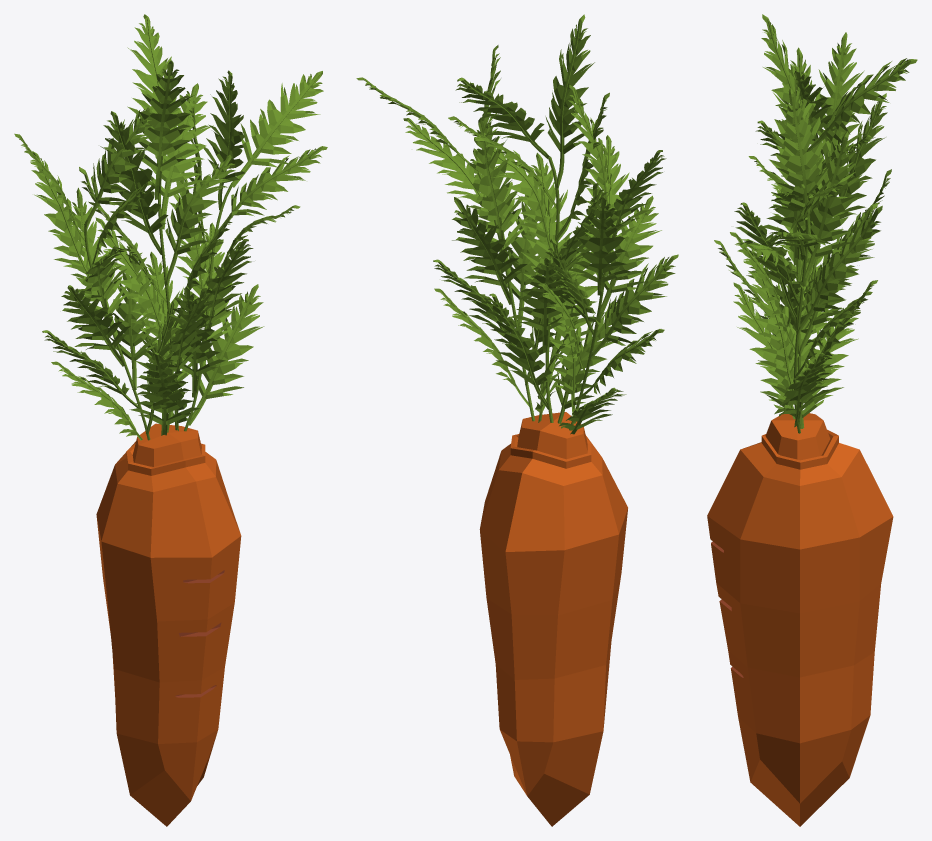
Rendered from ninjin.fbx.
3 views of the same model, side by side, from view 1: azimuth 30°, elevation 25°; view 2: azimuth 150°, elevation 25°; view 3: azimuth 270°, elevation 25° (orthographic). The views are drawn at different scales.
Visible parts, largest first — view 1: happa, ninjin; view 2: happa, ninjin; view 3: ninjin, happa.
Part boxes in pixels (box(x1,y1,x2,y2)): happa: box(14, 14, 327, 440); ninjin: box(96, 423, 241, 826); happa: box(356, 14, 678, 434); ninjin: box(479, 412, 627, 826); ninjin: box(707, 413, 893, 826); happa: box(714, 14, 917, 433).
Size of the model in its own units: 151 by 373 by 88.33.
